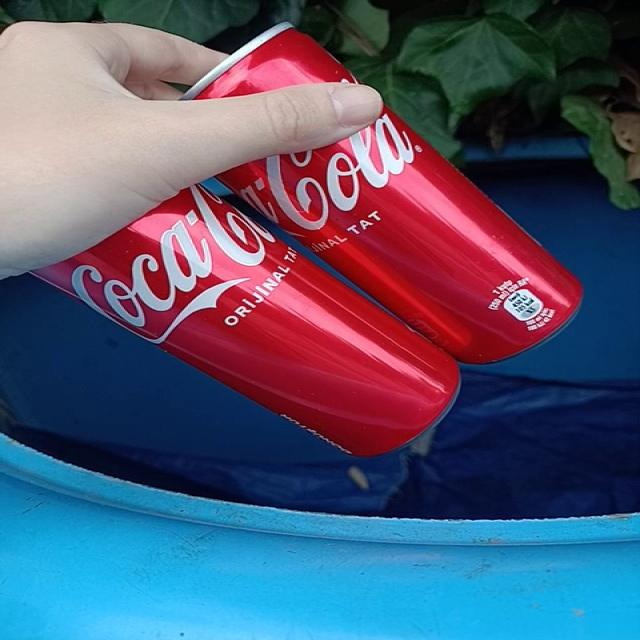bin: (2, 138, 640, 640)
metal: (33, 186, 459, 456), (220, 109, 581, 363), (184, 24, 355, 99)
